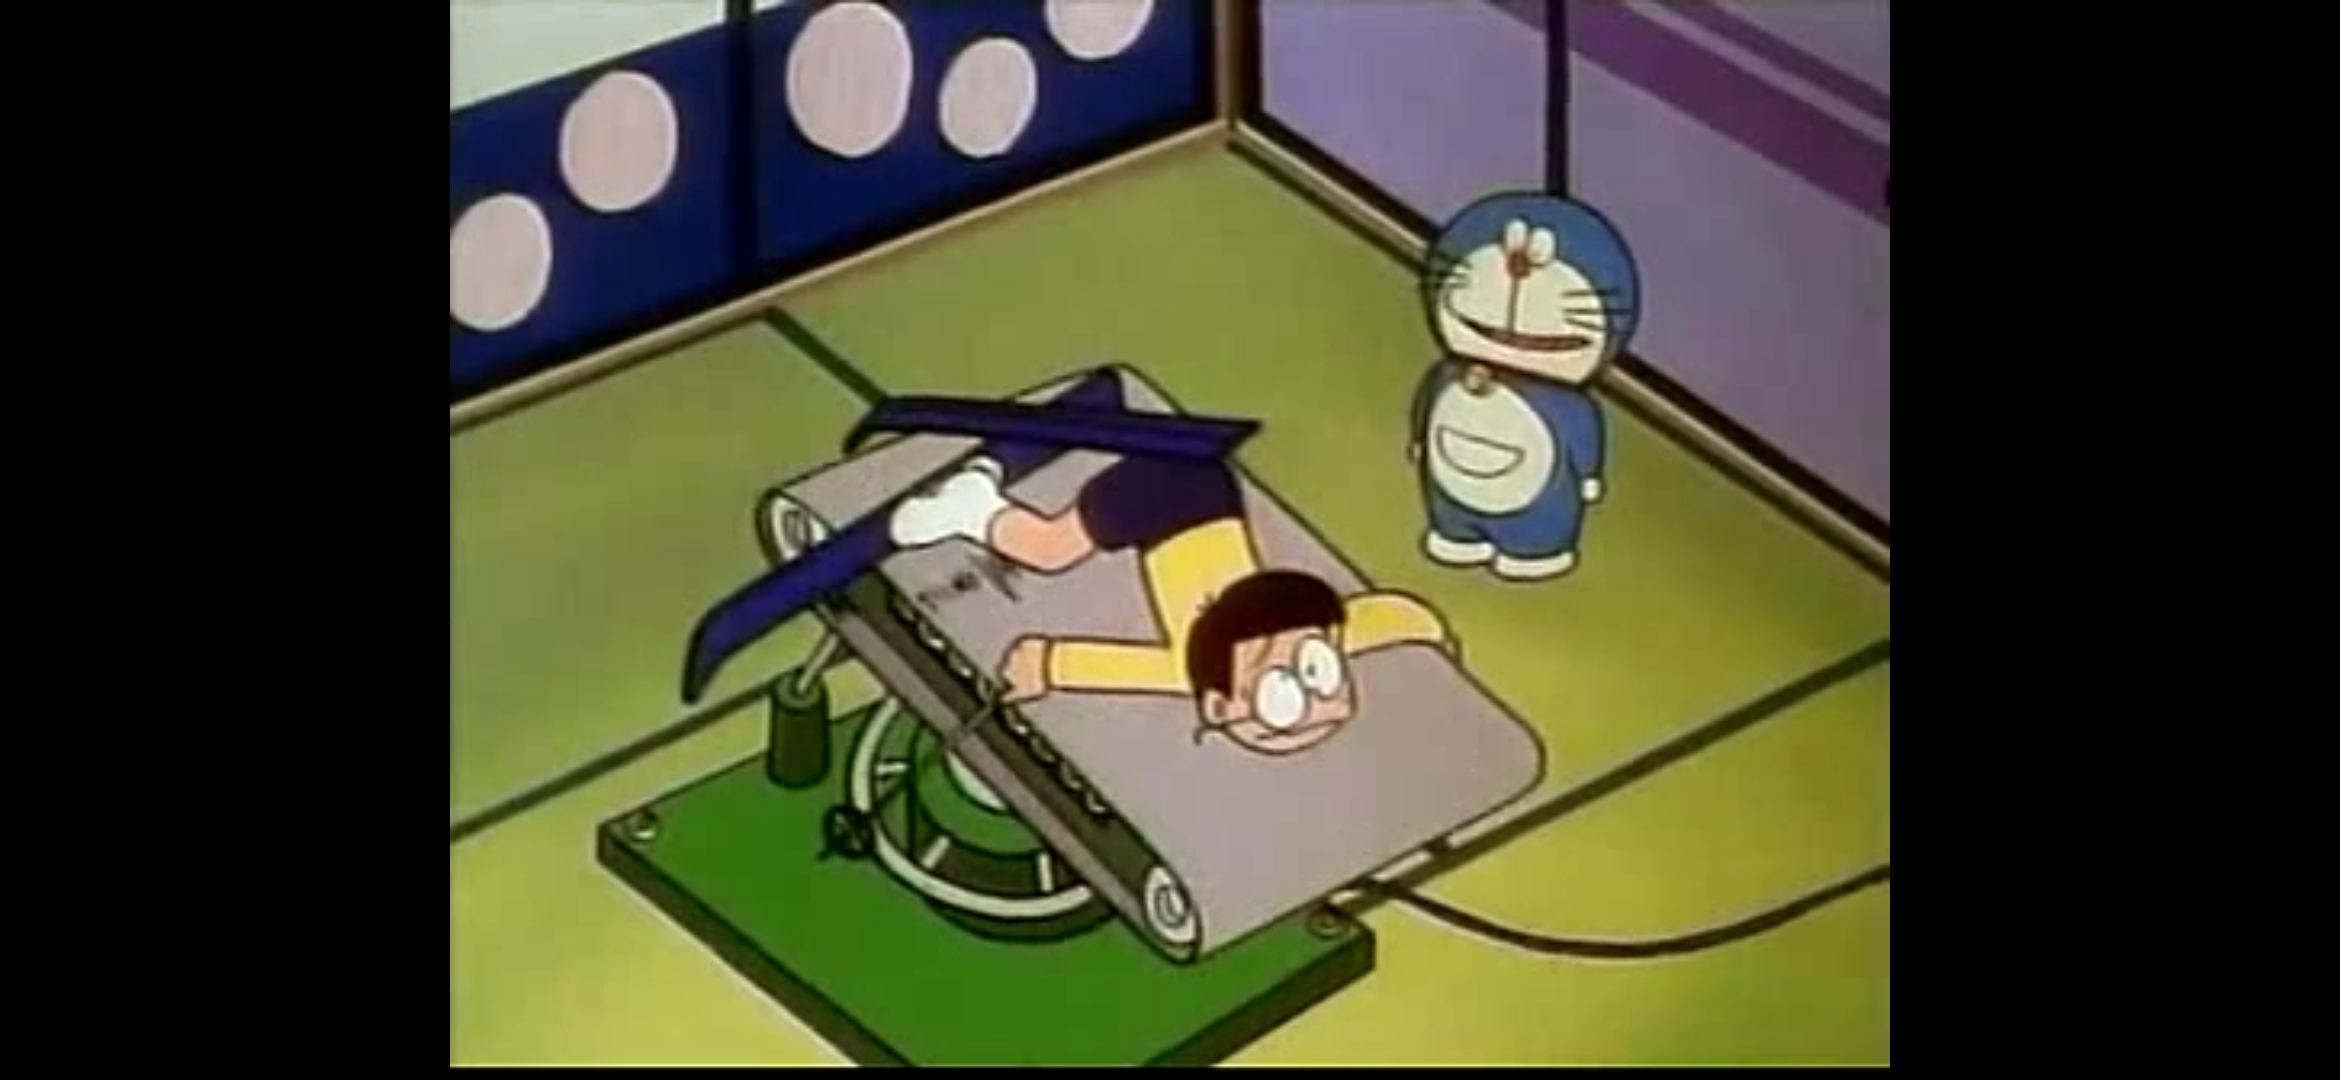Doraemon: (1418, 189, 1639, 395)
Nobi: (1183, 568, 1355, 756)
